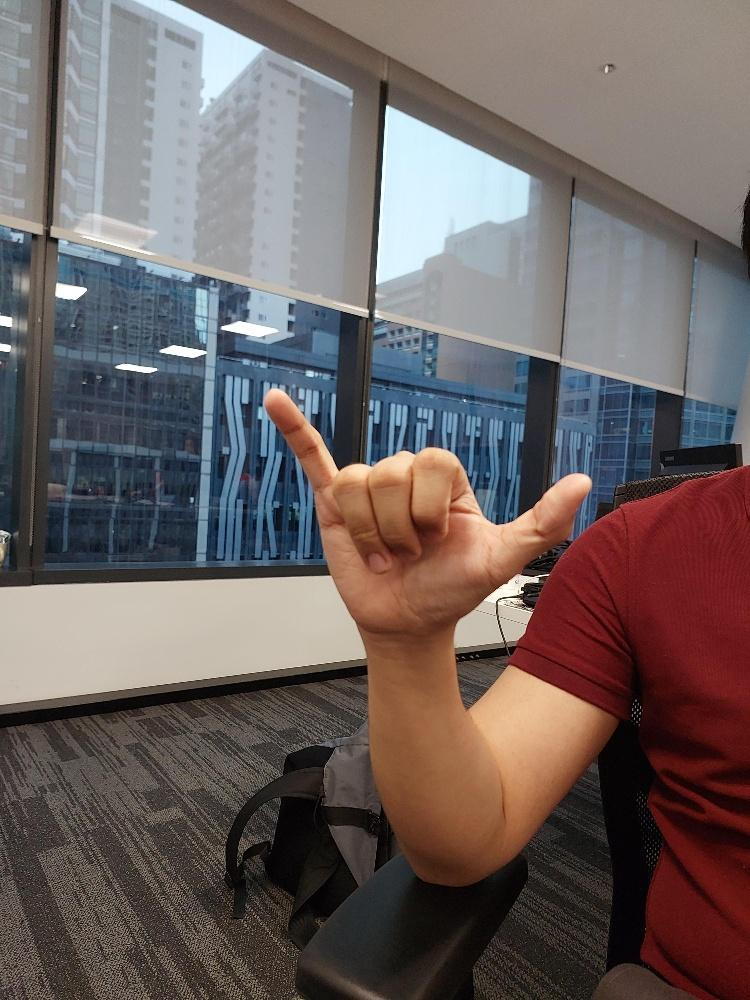y: (259, 383, 595, 641)
